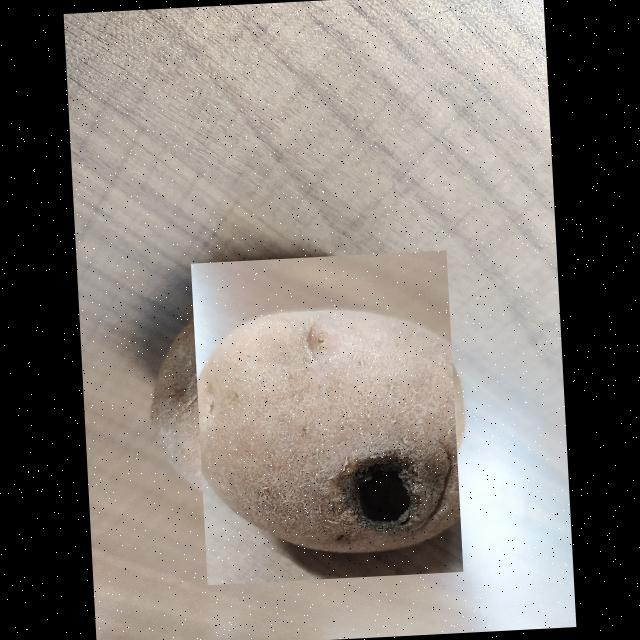Damaged potato: (191, 250, 464, 584)
